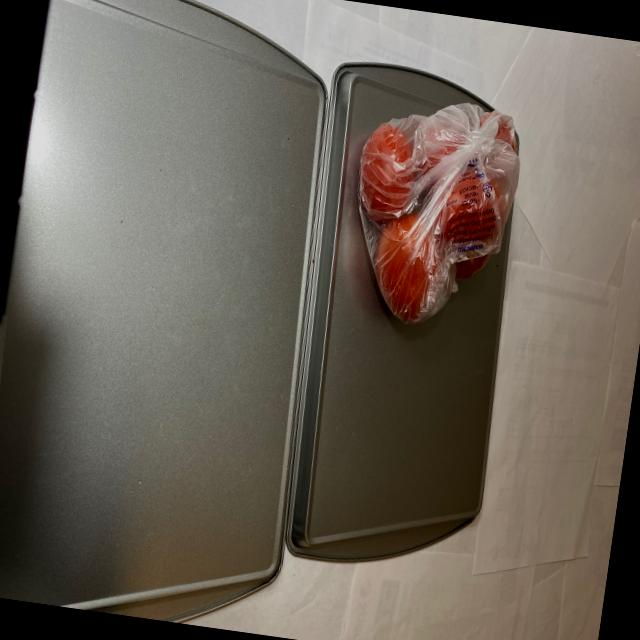tomato: (338, 92, 525, 342)
